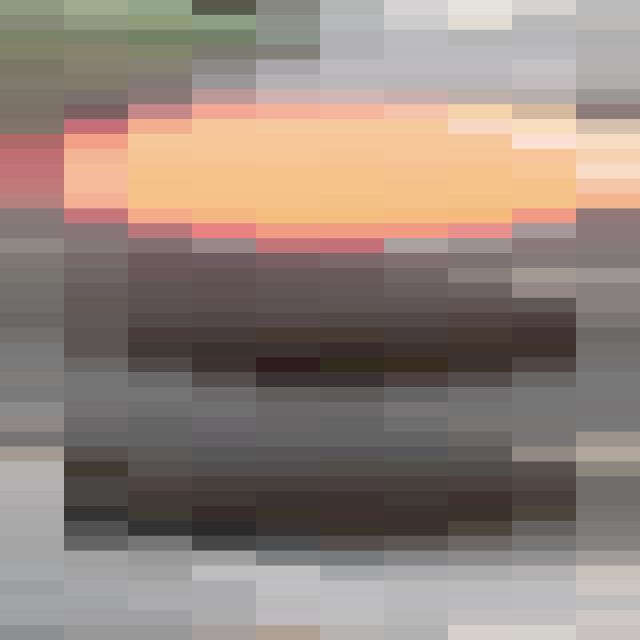red_light: (35, 86, 640, 595)
